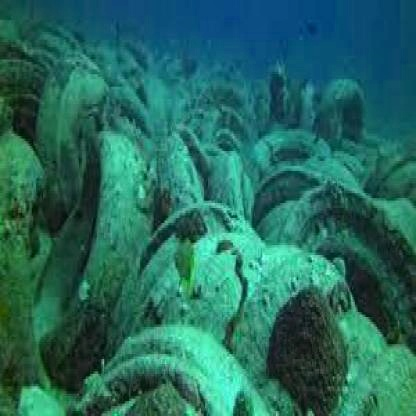tire: (273, 146, 416, 354), (60, 114, 138, 352), (1, 13, 64, 196)
